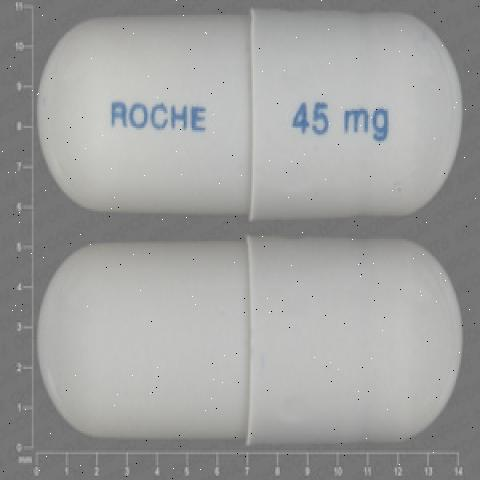Pill: (22, 216, 480, 458), (23, 4, 468, 227)
